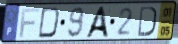2: (116, 6, 136, 37)
9: (66, 6, 86, 39)
A: (84, 5, 111, 39)
D: (36, 6, 62, 40), (137, 6, 158, 38)
F: (18, 7, 41, 39)
